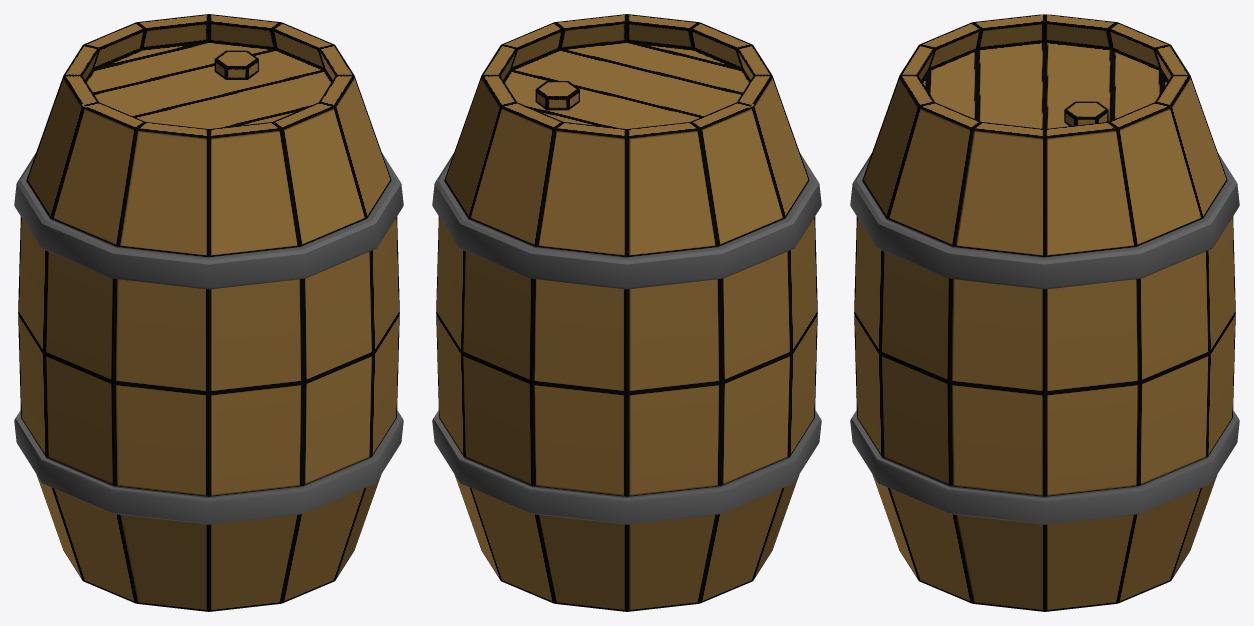
File: Barrel.fbx
3 renders of one model, left to right at view 1: azimuth 30°, elevation 25°; view 2: azimuth 150°, elevation 25°; view 3: azimuth 270°, elevation 25°, orthographic.
Visible parts, largest first — view 1: Barrel; view 2: Barrel; view 3: Barrel.
Part boxes in pixels (x1,y1,x2,y2): Barrel: [14, 14, 403, 611]; Barrel: [432, 14, 821, 611]; Barrel: [850, 14, 1239, 611].
Bounding box in the file's own units: 66.9 × 90 × 66.9.
